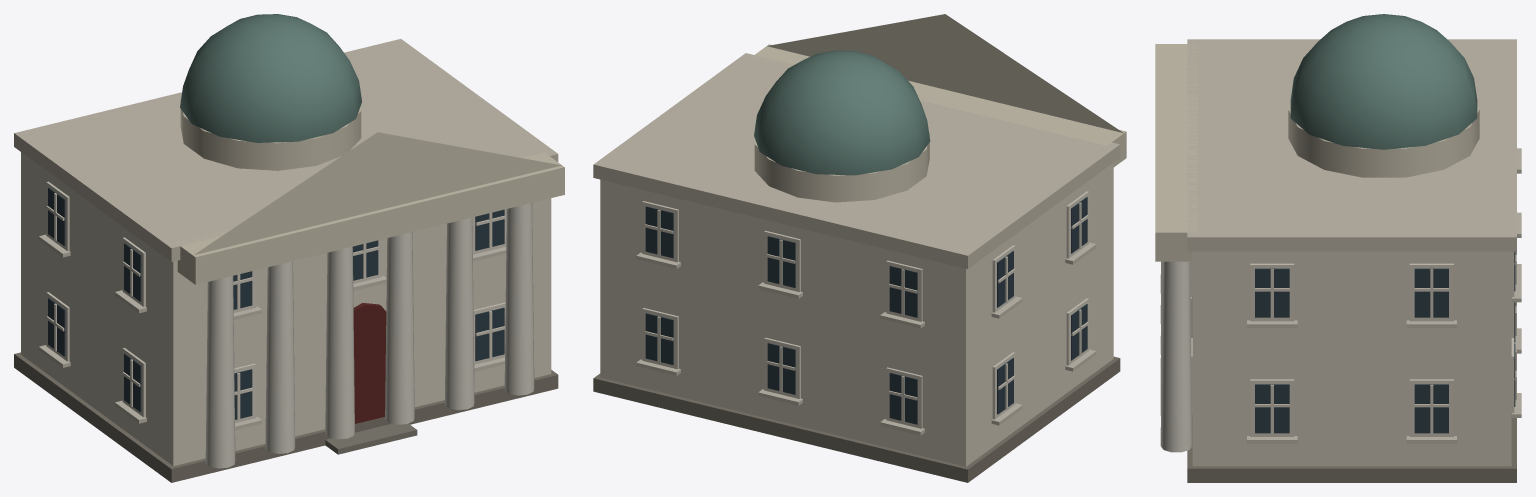
File: procedural_university@4.glb
3 views of the same model, side by side, from view 1: azimuth 30°, elevation 25°; view 2: azimuth 150°, elevation 25°; view 3: azimuth 270°, elevation 25° (orthographic). The views are drawn at different scales.
Parts seen in each view (by area): view 1: part_0; view 2: part_0; view 3: part_0.
Part boxes in pixels (x1,y1,x2,y2): part_0: (14, 14, 564, 482); part_0: (593, 14, 1126, 482); part_0: (1155, 14, 1521, 482).
Bounding box in the file's own units: 8.98 × 7.5 × 6.89.
